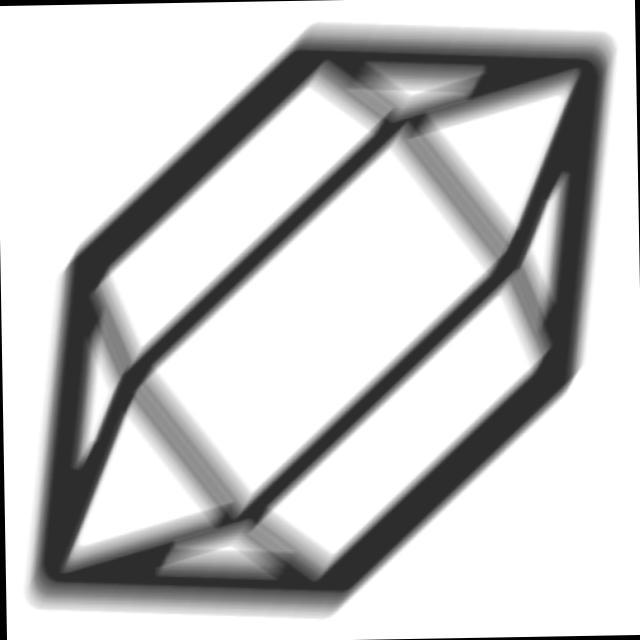crystal: (16, 7, 627, 631)
